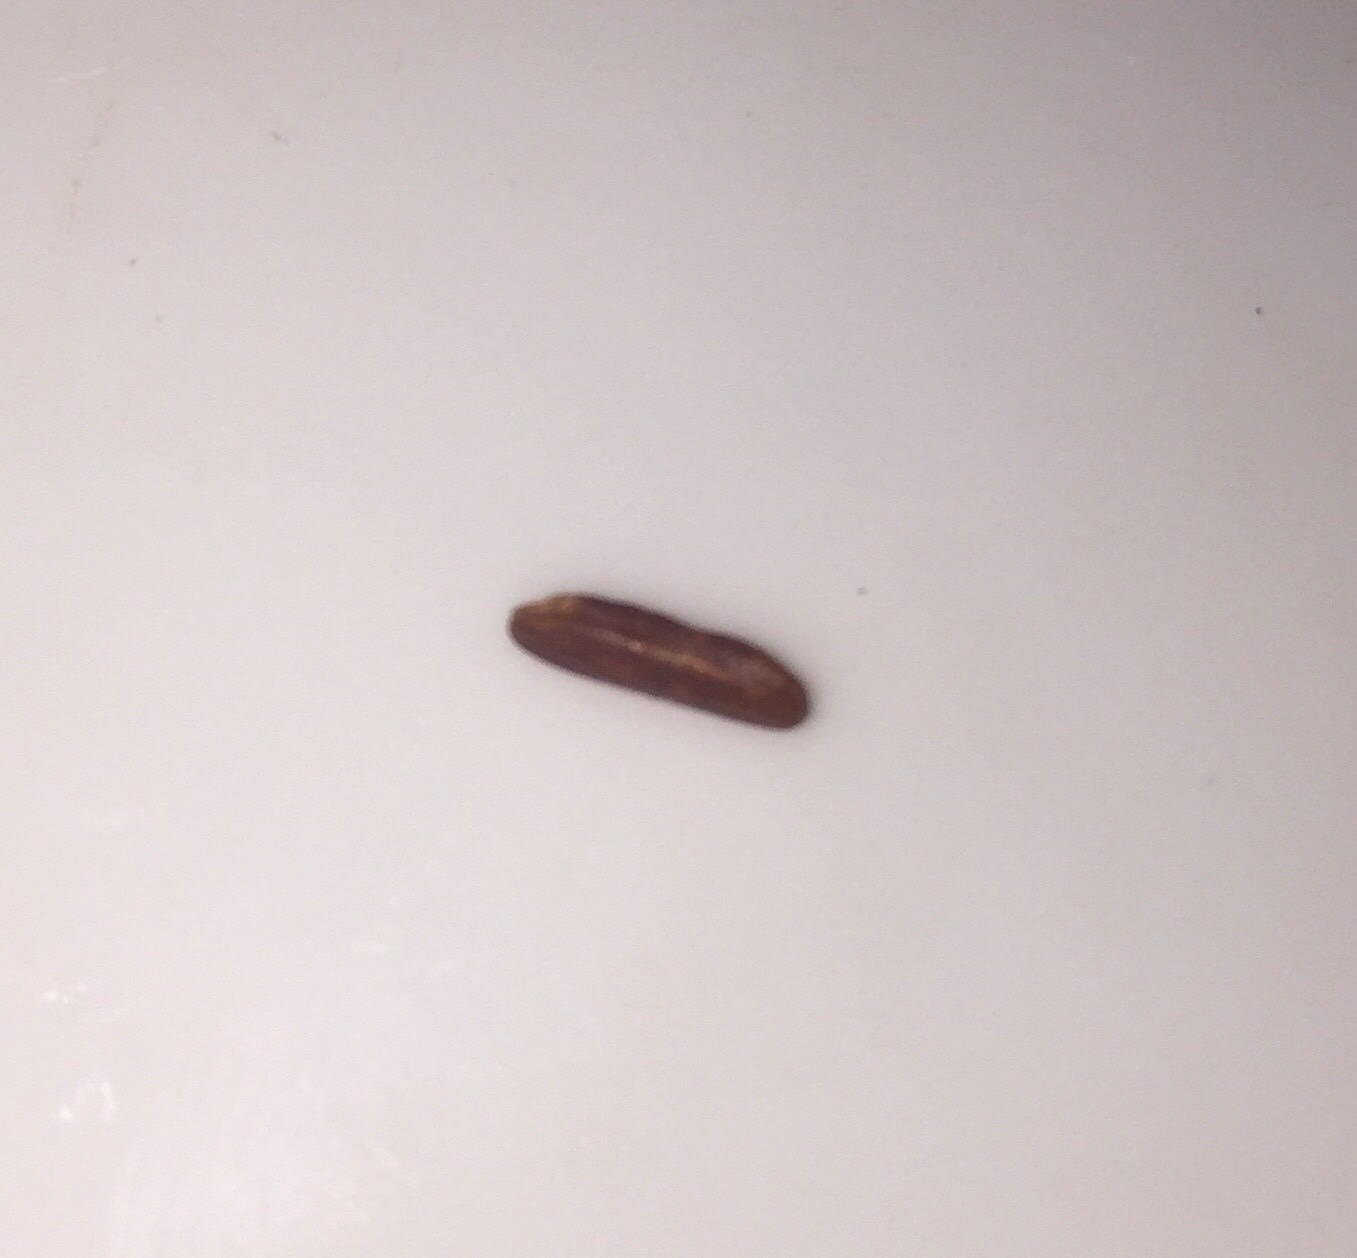Gao Huyet Rong: (488, 563, 825, 748)
